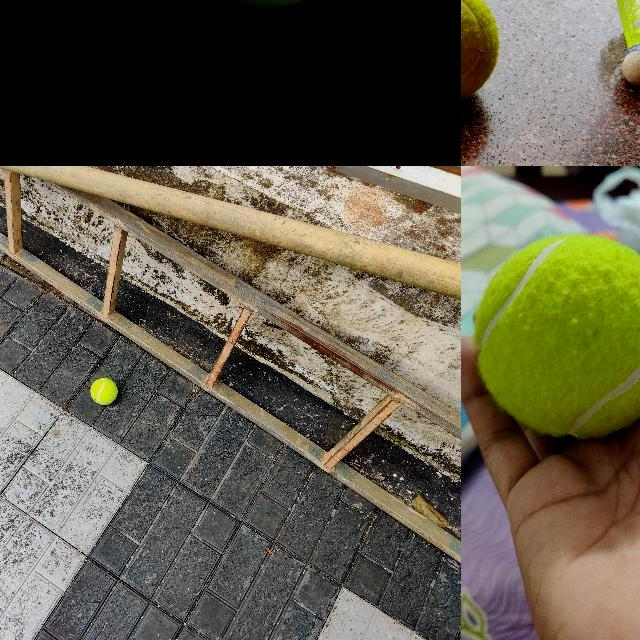Tennis Ball: (472, 233, 640, 440), (462, 0, 500, 103), (91, 377, 119, 405)
